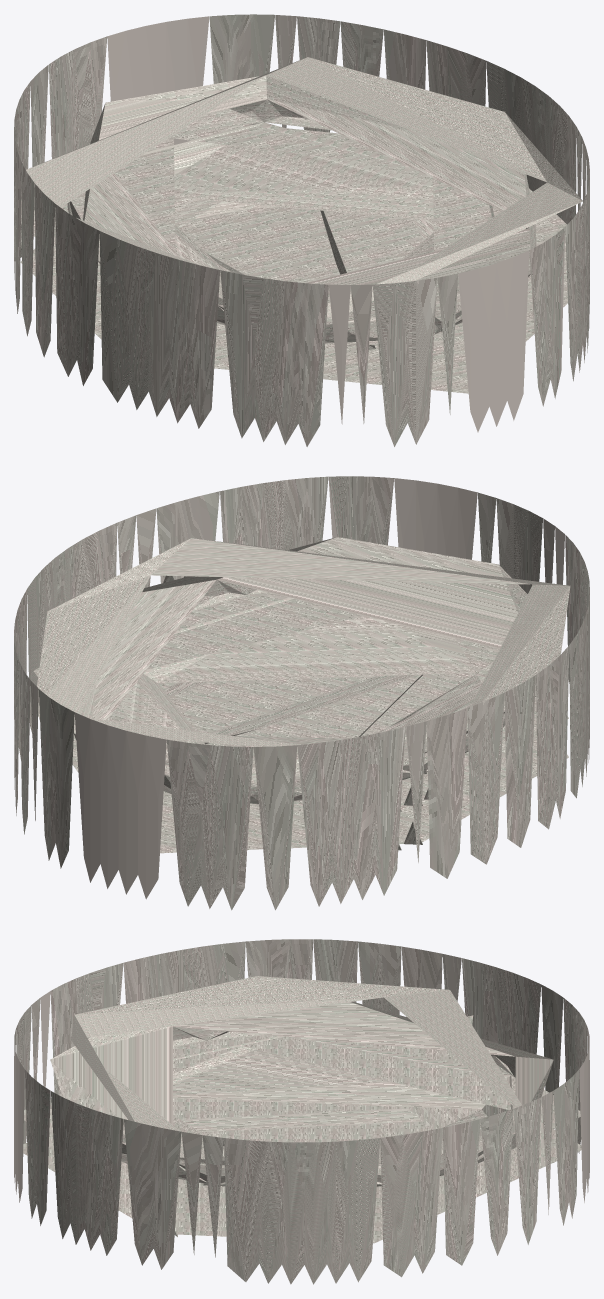
The picture shows the model from 3 angles, top to bottom: view 1: azimuth 30°, elevation 25°; view 2: azimuth 150°, elevation 25°; view 3: azimuth 270°, elevation 25°; orthographic projection. The views are drawn at different scales.
Parts seen in each view (by area): view 1: coliwo01_coliston_0, coliwo01_colbrown_0; view 2: coliwo01_coliston_0, coliwo01_colbrown_0; view 3: coliwo01_coliston_0, coliwo01_colbrown_0.
Part boxes in pixels (x1,y1,x2,y2): coliwo01_coliston_0: [14, 14, 589, 446]; coliwo01_colbrown_0: [14, 57, 589, 393]; coliwo01_coliston_0: [14, 476, 589, 910]; coliwo01_colbrown_0: [33, 537, 570, 853]; coliwo01_coliston_0: [14, 939, 589, 1284]; coliwo01_colbrown_0: [23, 976, 581, 1243].
Bounding box in the file's own units: 376 × 123 × 449.
1 material, 1 textured.
